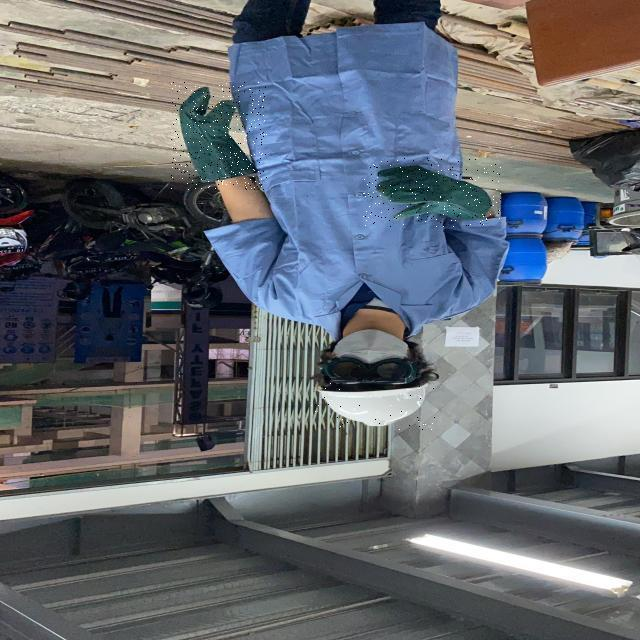gloves: (172, 80, 250, 195), (375, 165, 498, 228)
